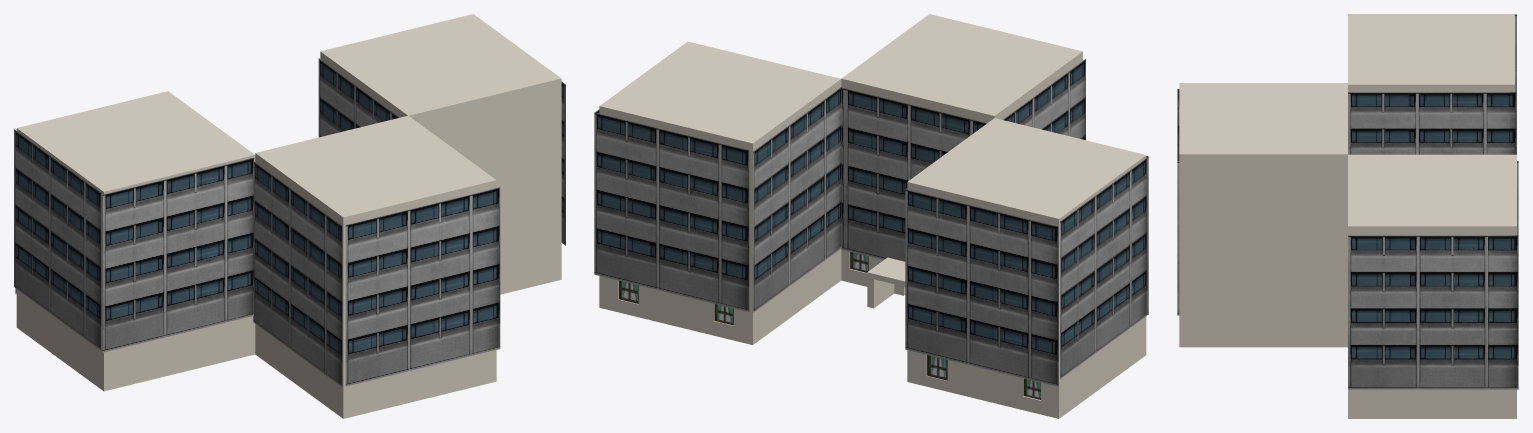
Rendered from Appartement.fbx.
3 views of the same model, side by side, from view 1: azimuth 30°, elevation 25°; view 2: azimuth 150°, elevation 25°; view 3: azimuth 270°, elevation 25° (orthographic). The views are drawn at different scales.
Parts seen in each view (by area): view 1: Mesh1 Model, Mesh7 Model, Mesh11 Model, Mesh6 Model, Mesh10 Model, Mesh4 Model, Mesh3 Model; view 2: Mesh1 Model, Mesh2 Model, Mesh9 Model, Mesh4 Model, Mesh10 Model, Mesh5 Model, Mesh6 Model; view 3: Mesh1 Model, Mesh3 Model, Mesh8 Model, Mesh4 Model.
Part boxes in pixels (x1,y1,x2,y2): Mesh1 Model: (16,14,561,418); Mesh7 Model: (345,187,500,386); Mesh11 Model: (103,157,254,352); Mesh6 Model: (253,161,342,386); Mesh10 Model: (14,129,101,350); Mesh4 Model: (318,58,399,137); Mesh3 Model: (561,82,565,245); Mesh1 Model: (599,14,1146,418); Mesh2 Model: (594,112,749,312); Mesh9 Model: (905,189,1058,386); Mesh4 Model: (753,86,841,312); Mesh10 Model: (1060,157,1147,379); Mesh5 Model: (841,87,987,261); Mesh6 Model: (1002,59,1085,140); Mesh1 Model: (1179,14,1516,418); Mesh3 Model: (1348,235,1518,389); Mesh8 Model: (1348,92,1516,154); Mesh4 Model: (1177,161,1518,315).
Bounding box in the file's own units: 124 × 51.56 × 82.65.
